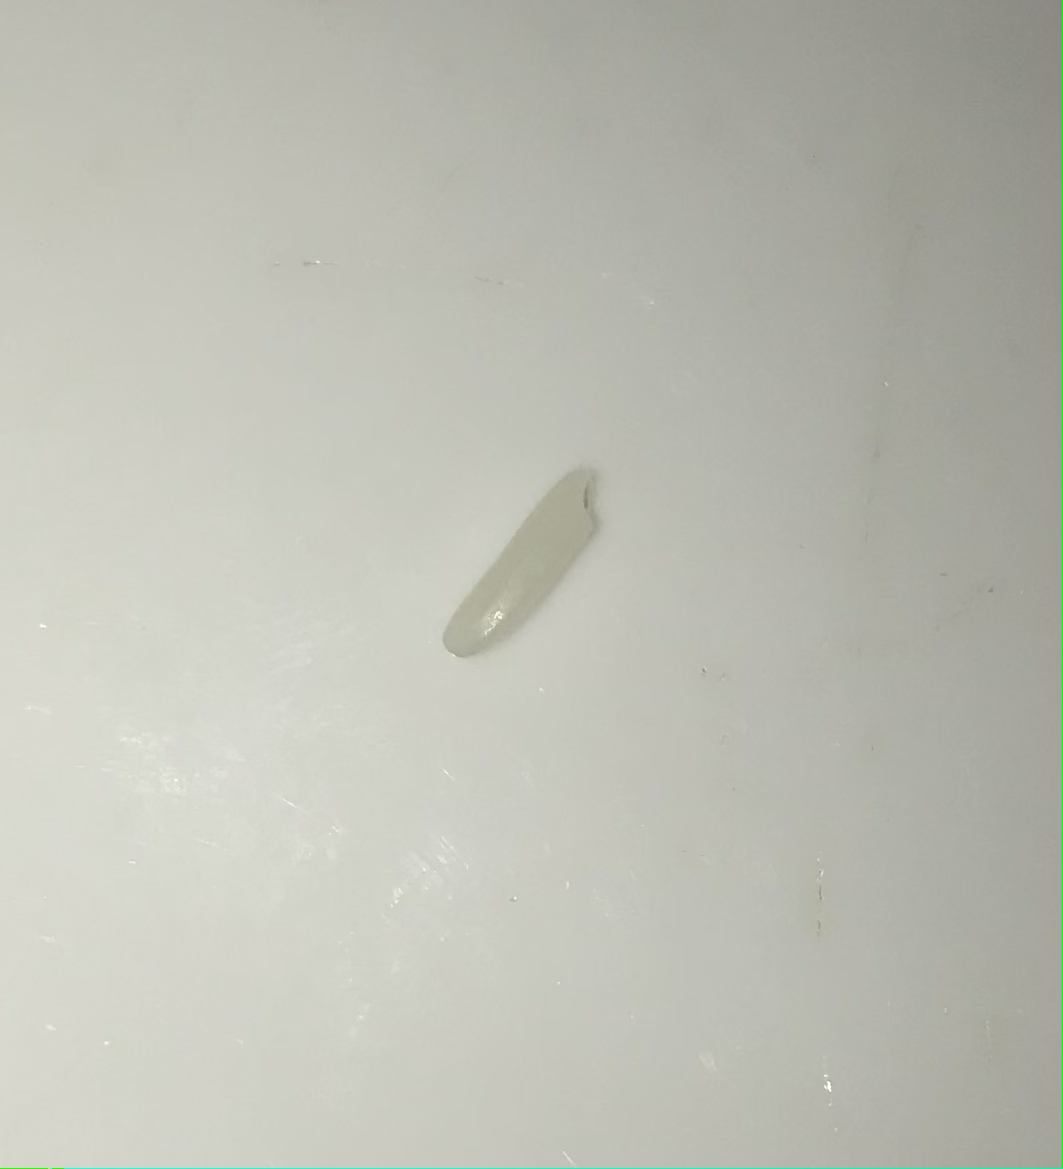Gao Ngoc Troi: (440, 444, 631, 689)
